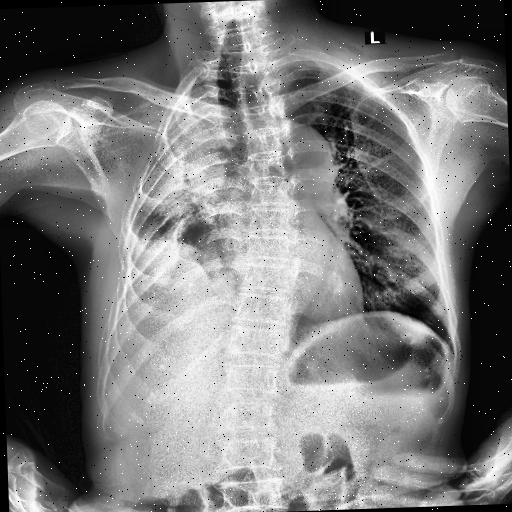0- Aortic enlargement: (268, 118, 336, 196), (268, 118, 332, 194), (278, 120, 335, 199)
1- Atelectasis: (105, 78, 238, 356)
10- Pleural effusion: (106, 80, 276, 366), (122, 236, 222, 324)
11- Pleural thickening: (135, 79, 222, 195)
7- Lung Opacity: (106, 80, 276, 366), (126, 188, 232, 252)
9- Other lesion: (131, 200, 220, 256)
